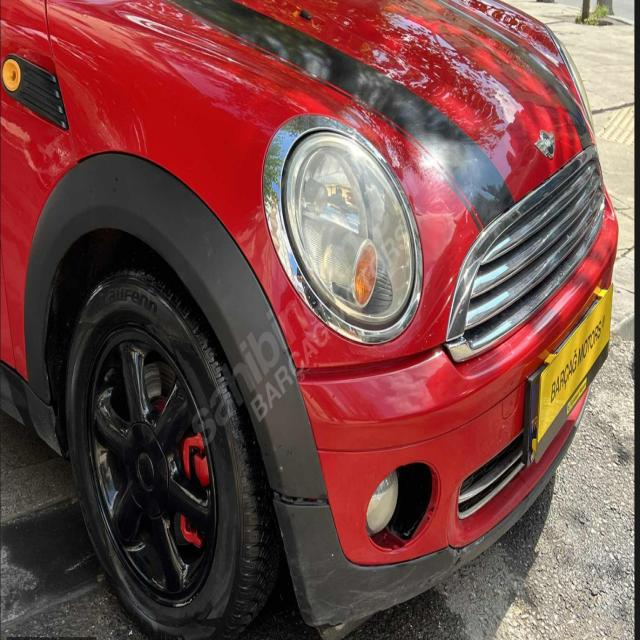mini: (531, 127, 561, 163)
